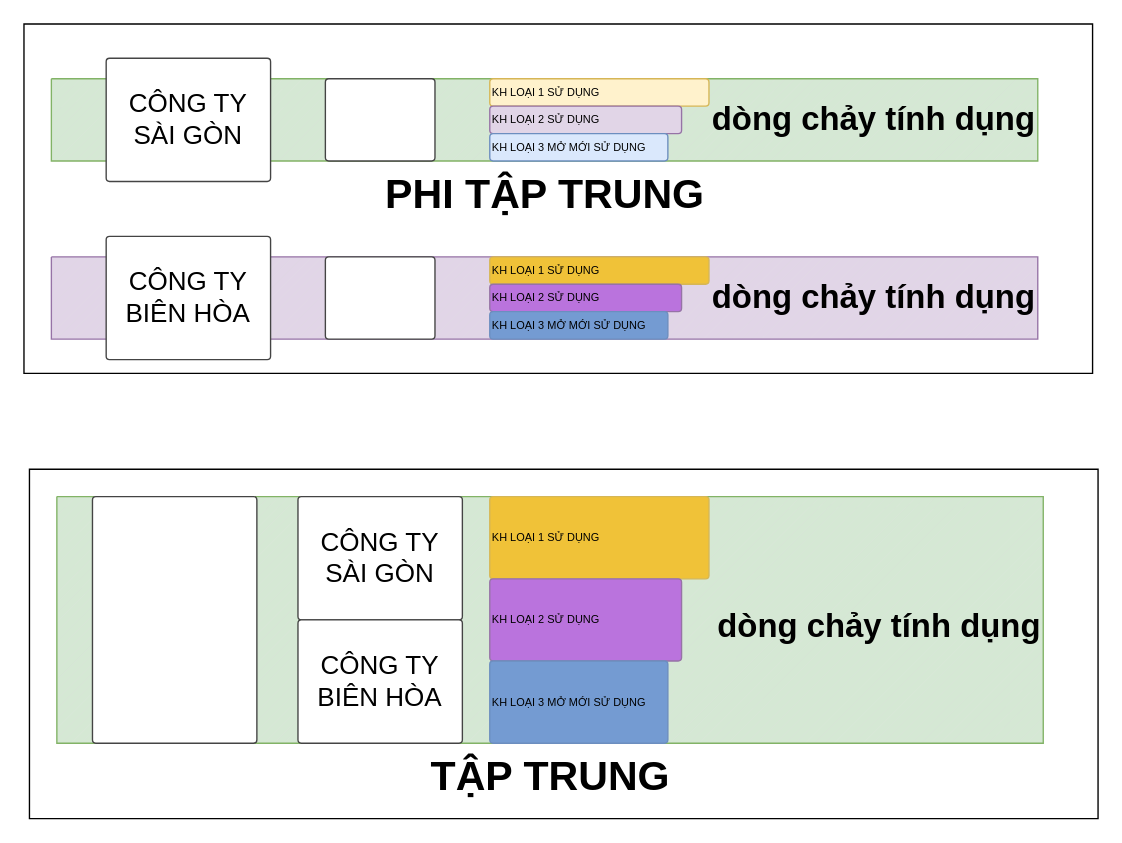
The diagram is 1122 pixels wide and 843 high, and some of its shapes have lost their labels. The shapes that lost their labels are listed below. From the top down, each one's centre as x and y in pixels, then its label:
the point at 379,119: KIỂM SOÁT TÍN DỤNG SÀI GÒN
the point at 379,297: KIỂM SOÁT TÍN DỤNG BIÊN HÒA
the point at 174,619: KIỂM SOÁT TÍN DỤNG DOANH NGHIỆP
